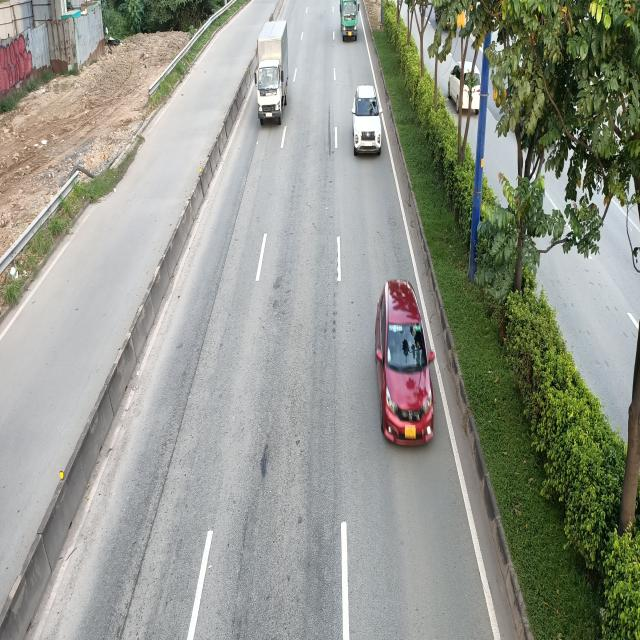car: (372, 279, 433, 446), (350, 85, 382, 155)
truck: (254, 22, 290, 126), (339, 0, 360, 42)
